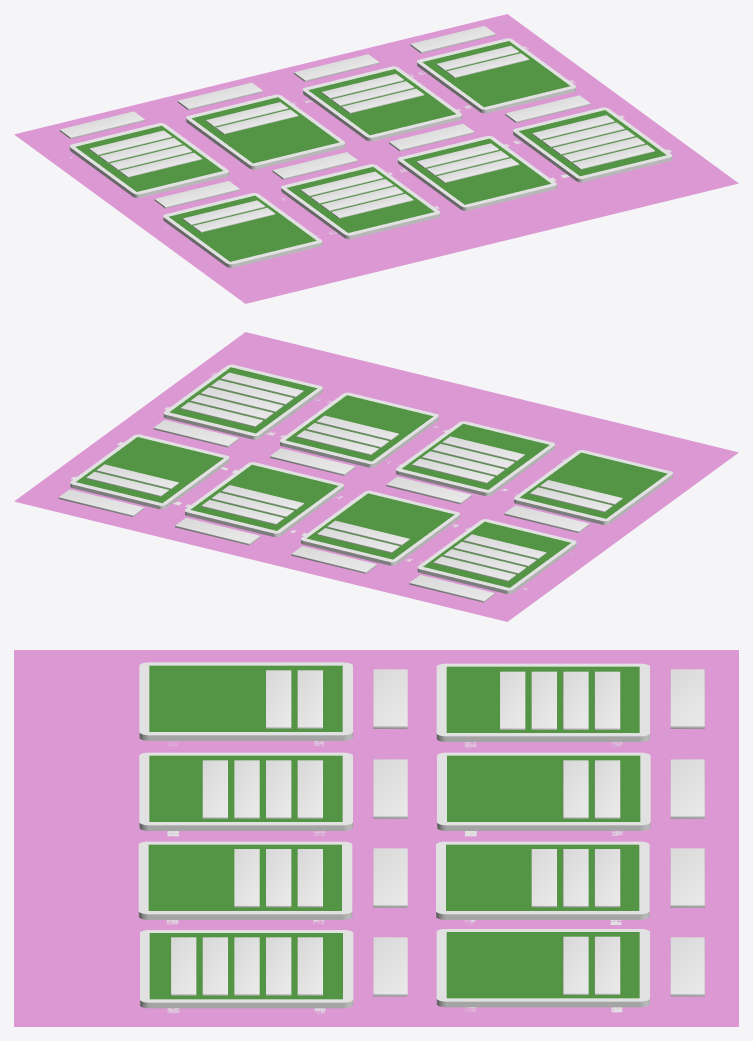
Rendered from board.glb.
The picture shows the model from 3 angles, top to bottom: view 1: azimuth 30°, elevation 25°; view 2: azimuth 150°, elevation 25°; view 3: azimuth 270°, elevation 25°; orthographic projection. The views are drawn at different scales.
Parts seen in each view (by area): view 1: Plane, Plane.011, Plane.009, Plane.001, Plane.013, Plane.015, Plane.003, Plane.008, Plane.005, Cube.020, Cube.036, Cube.004 (+30 smaller); view 2: Plane, Plane.009, Plane.011, Plane.001, Plane.013, Plane.015, Plane.008, Plane.003, Plane.005, Cube.020, Cube.004, Cube.019 (+30 smaller); view 3: Plane, Plane.001, Plane.011, Plane.009, Plane.015, Plane.013, Plane.003, Plane.008, Plane.005, Cube.004, Cube.015, Cube.016 (+30 smaller).
Part boxes in pixels (box(x1,y1,x2,y2)): Plane: box(14, 14, 738, 303); Plane.011: box(186, 94, 345, 169); Plane.009: box(417, 38, 575, 113); Plane.001: box(163, 193, 322, 267); Plane.013: box(303, 66, 461, 141); Plane.015: box(397, 136, 556, 210); Plane.003: box(281, 164, 440, 239); Plane.008: box(69, 123, 228, 197); Plane.005: box(513, 107, 672, 182); Cube.020: box(272, 152, 357, 179); Cube.036: box(294, 54, 379, 81); Cube.004: box(154, 181, 239, 208); Plane: box(14, 332, 738, 621); Plane.009: box(70, 434, 229, 509); Plane.011: box(301, 490, 459, 565); Plane.001: box(514, 450, 672, 524); Plane.013: box(185, 462, 343, 537); Plane.015: box(280, 392, 438, 467); Plane.008: box(417, 519, 576, 594); Plane.003: box(396, 421, 554, 496); Plane.005: box(163, 364, 322, 439); Cube.020: box(386, 476, 471, 504); Cube.004: box(504, 505, 589, 532); Cube.019: box(291, 546, 376, 573); Plane: box(14, 650, 738, 1026); Plane.001: box(139, 662, 352, 740); Plane.011: box(437, 752, 650, 830); Plane.009: box(436, 929, 649, 1007); Plane.015: box(138, 841, 352, 919); Plane.013: box(436, 841, 649, 919); Plane.003: box(139, 752, 352, 830); Plane.008: box(436, 663, 649, 741); Plane.005: box(140, 930, 353, 1008); Cube.004: box(373, 669, 407, 728); Cube.015: box(670, 669, 704, 728); Cube.016: box(373, 937, 407, 996).
Bounding box in the file's own units: 14.1 × 0.1248 × 11.46.
